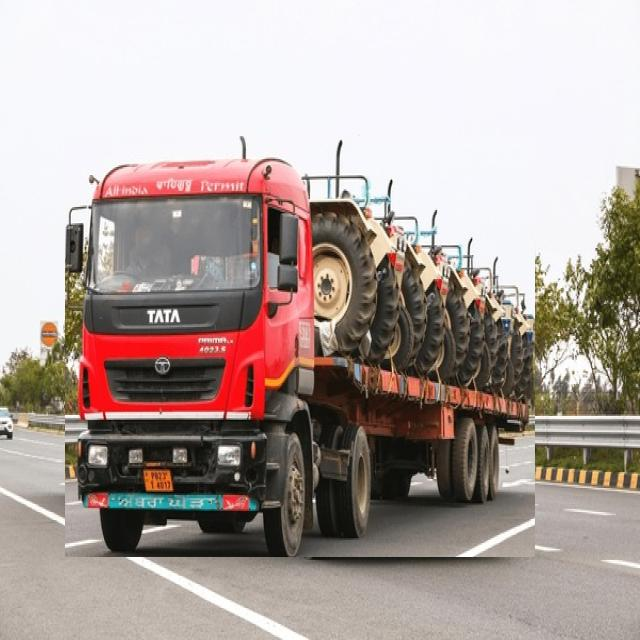truck: (65, 137, 535, 557)
